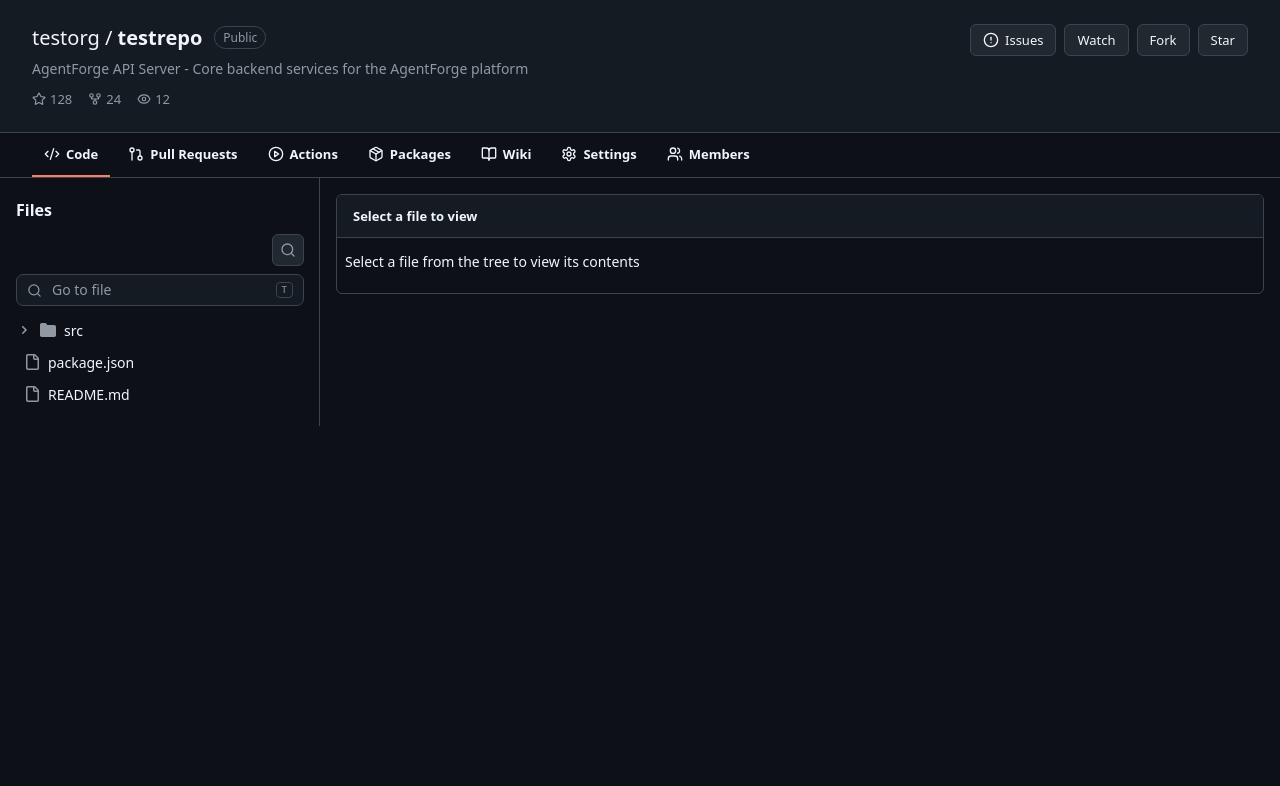
Test: RepositoryDetailPage - Wiki Tab › renders the wiki tab when clicked
Step 1. Click the tab "Wiki" → (506, 155), box [469,133,543,177]
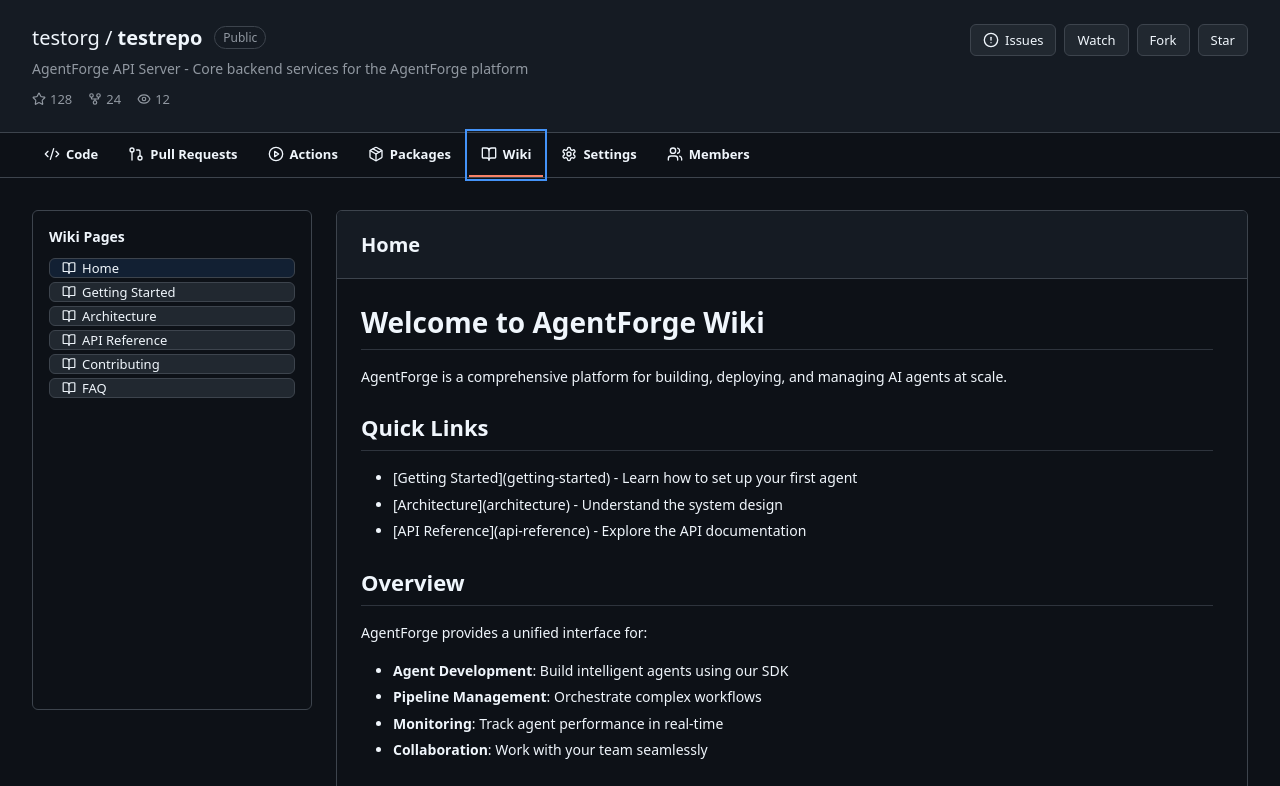
Expected: the heading "Wiki Pages" is shown, [49,227,125,246]
